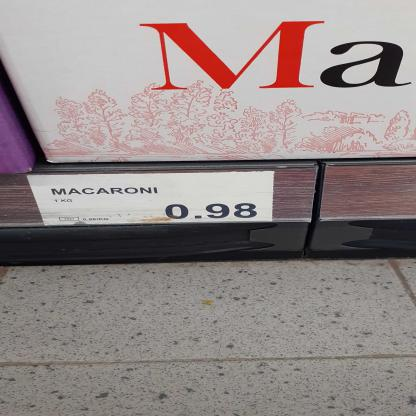prtg: (28, 172, 274, 226)
